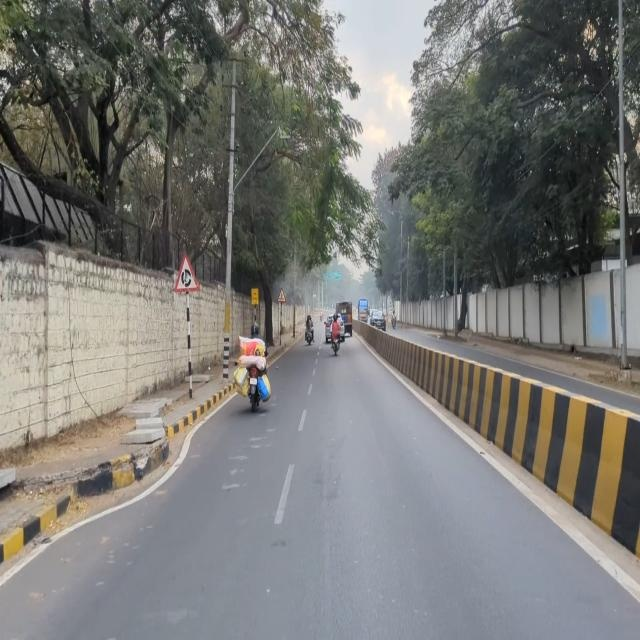bien_nguy_hiem: (173, 252, 200, 294), (277, 287, 286, 303)
